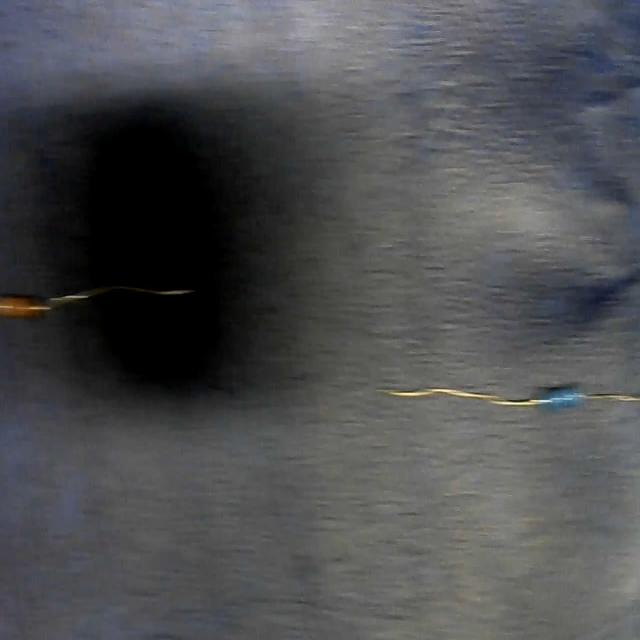resistor: (374, 376, 640, 419), (0, 270, 194, 325)
